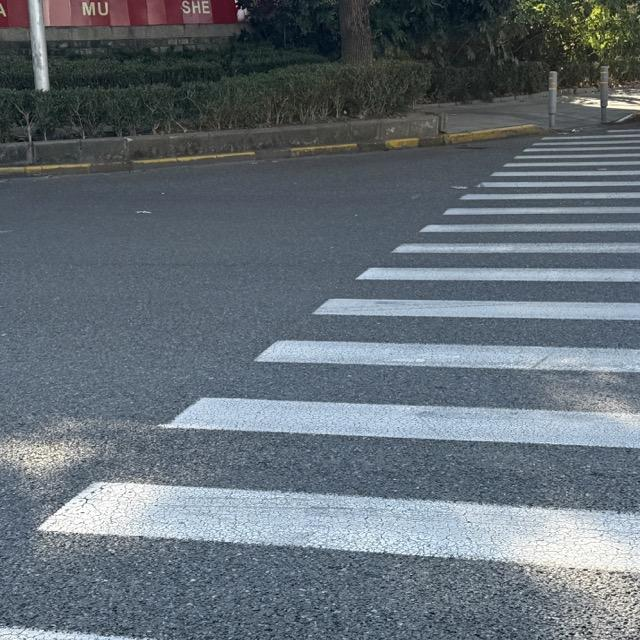curb: (0, 125, 543, 177), (0, 118, 439, 166)
